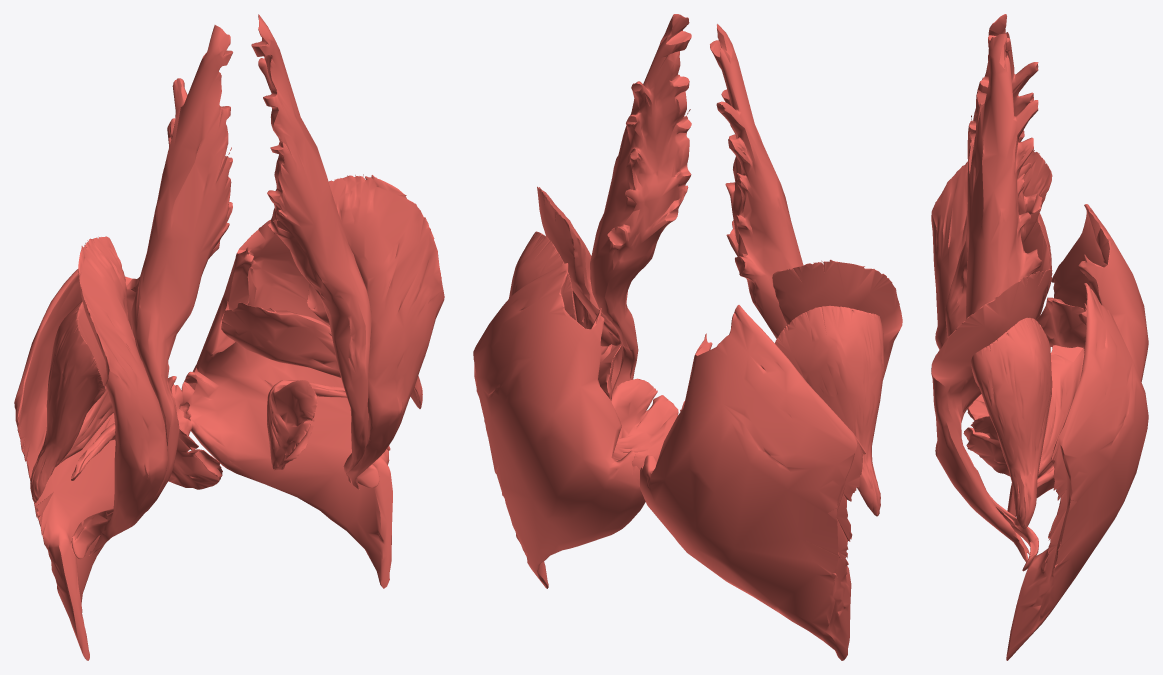
Rendered from supplement-hip-pelvis-muscle.glb.
The picture shows the model from 3 angles, left to right: view 1: azimuth 30°, elevation 25°; view 2: azimuth 150°, elevation 25°; view 3: azimuth 270°, elevation 25°; orthographic projection. The views are drawn at different scales.
Visible parts, largest first — view 1: hip-pelvis:gluteus-maximus:isa:FJ1418M, hip-pelvis:psoas-major:isa:FJ1431, hip-pelvis:iliacus:isa:FJ1422M, hip-pelvis:psoas-major:isa:FJ1431M, hip-pelvis:gluteus-maximus:isa:FJ1418, hip-pelvis:iliacus:isa:FJ1422, hip-pelvis:gluteus-minimus:isa:FJ1420, hip-pelvis:piriformis:isa:FJ1428M, hip-pelvis:obturator-internus:isa:FJ1426M, hip-pelvis:obturator-internus:isa:FJ1426, hip-pelvis:piriformis:isa:FJ1428, hip-pelvis:gluteus-minimus:isa:FJ1420M; view 2: hip-pelvis:gluteus-maximus:isa:FJ1418, hip-pelvis:gluteus-maximus:isa:FJ1418M, hip-pelvis:psoas-major:isa:FJ1431M, hip-pelvis:psoas-major:isa:FJ1431, hip-pelvis:gluteus-minimus:isa:FJ1420, hip-pelvis:iliacus:isa:FJ1422, hip-pelvis:obturator-internus:isa:FJ1426M, hip-pelvis:iliacus:isa:FJ1422M, hip-pelvis:gluteus-minimus:isa:FJ1420M, hip-pelvis:piriformis:isa:FJ1428M; view 3: hip-pelvis:gluteus-maximus:isa:FJ1418M, hip-pelvis:psoas-major:isa:FJ1431M, hip-pelvis:iliacus:isa:FJ1422M, hip-pelvis:gluteus-minimus:isa:FJ1420M, hip-pelvis:gluteus-maximus:isa:FJ1418, hip-pelvis:iliacus:isa:FJ1422, hip-pelvis:psoas-major:isa:FJ1431, hip-pelvis:piriformis:isa:FJ1428M, hip-pelvis:piriformis:isa:FJ1428, hip-pelvis:obturator-internus:isa:FJ1426M, hip-pelvis:gluteus-minimus:isa:FJ1420, hip-pelvis:obturator-internus:isa:FJ1426.
Boxes of the visible parts, x1,y1,x2,y2 form: hip-pelvis:gluteus-maximus:isa:FJ1418M: [181, 208, 392, 588]; hip-pelvis:psoas-major:isa:FJ1431: [71, 25, 232, 559]; hip-pelvis:iliacus:isa:FJ1422M: [328, 174, 444, 489]; hip-pelvis:psoas-major:isa:FJ1431M: [251, 14, 379, 487]; hip-pelvis:gluteus-maximus:isa:FJ1418: [14, 269, 192, 660]; hip-pelvis:iliacus:isa:FJ1422: [78, 236, 167, 555]; hip-pelvis:gluteus-minimus:isa:FJ1420: [30, 301, 107, 502]; hip-pelvis:piriformis:isa:FJ1428M: [221, 302, 340, 377]; hip-pelvis:obturator-internus:isa:FJ1426M: [267, 380, 347, 470]; hip-pelvis:obturator-internus:isa:FJ1426: [71, 423, 222, 489]; hip-pelvis:piriformis:isa:FJ1428: [57, 386, 113, 465]; hip-pelvis:gluteus-minimus:isa:FJ1420M: [307, 284, 422, 408]; hip-pelvis:gluteus-maximus:isa:FJ1418: [640, 305, 865, 660]; hip-pelvis:gluteus-maximus:isa:FJ1418M: [473, 263, 645, 588]; hip-pelvis:psoas-major:isa:FJ1431M: [590, 14, 691, 393]; hip-pelvis:psoas-major:isa:FJ1431: [710, 24, 803, 338]; hip-pelvis:gluteus-minimus:isa:FJ1420: [775, 305, 883, 516]; hip-pelvis:iliacus:isa:FJ1422: [772, 259, 902, 379]; hip-pelvis:obturator-internus:isa:FJ1426M: [611, 378, 678, 469]; hip-pelvis:iliacus:isa:FJ1422M: [537, 186, 622, 389]; hip-pelvis:gluteus-minimus:isa:FJ1420M: [509, 231, 577, 321]; hip-pelvis:piriformis:isa:FJ1428M: [598, 344, 621, 400]; hip-pelvis:gluteus-maximus:isa:FJ1418M: [1006, 283, 1148, 660]; hip-pelvis:psoas-major:isa:FJ1431M: [961, 34, 1042, 571]; hip-pelvis:iliacus:isa:FJ1422M: [931, 269, 1052, 562]; hip-pelvis:gluteus-minimus:isa:FJ1420M: [970, 317, 1052, 528]; hip-pelvis:gluteus-maximus:isa:FJ1418: [1007, 204, 1148, 516]; hip-pelvis:iliacus:isa:FJ1422: [931, 150, 1052, 349]; hip-pelvis:psoas-major:isa:FJ1431: [945, 14, 1042, 337]; hip-pelvis:piriformis:isa:FJ1428M: [1037, 345, 1084, 477]; hip-pelvis:piriformis:isa:FJ1428: [1036, 297, 1086, 349]; hip-pelvis:obturator-internus:isa:FJ1426M: [963, 416, 1054, 487]; hip-pelvis:gluteus-minimus:isa:FJ1420: [1023, 213, 1052, 318]; hip-pelvis:obturator-internus:isa:FJ1426: [967, 394, 989, 420].
Size of the model in its own units: 0.2908 by 0.431 by 0.1493.
